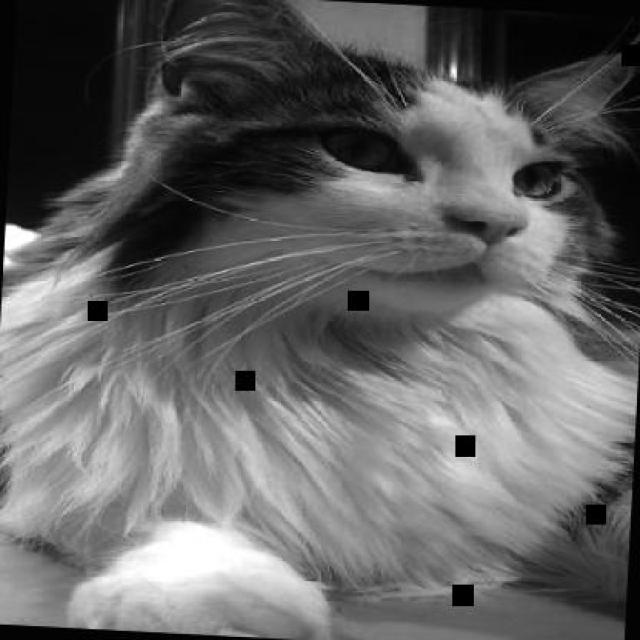cat: (0, 0, 638, 601)
